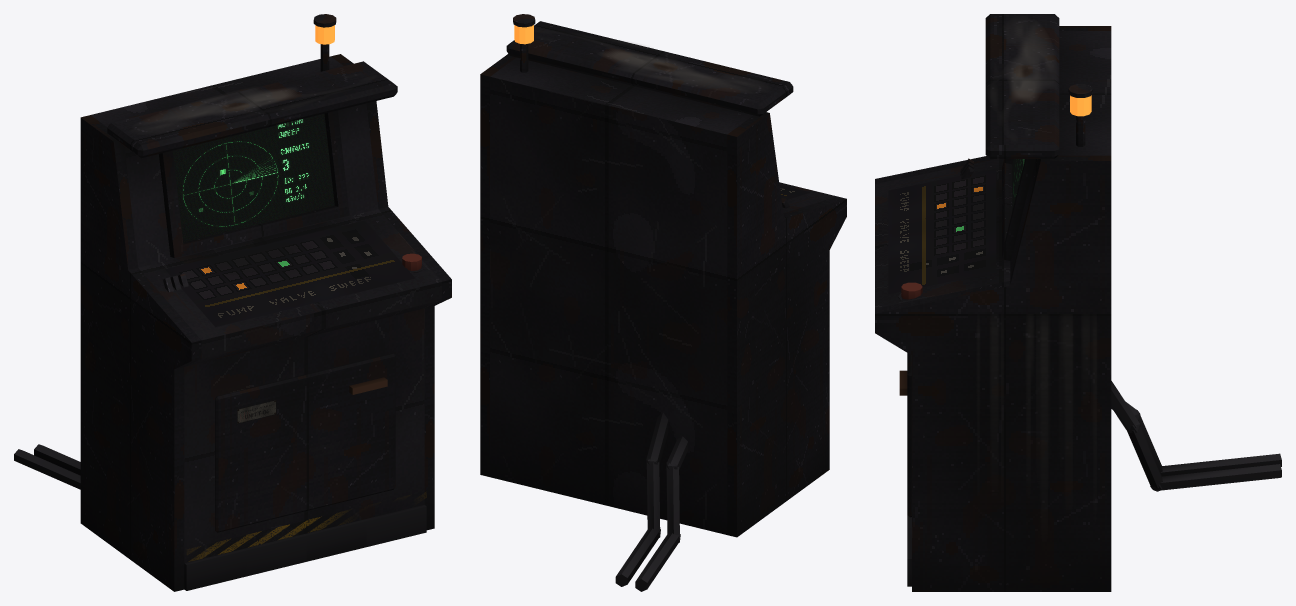
The model's file is terminal_console.glb.
3 renders of one model, left to right at view 1: azimuth 30°, elevation 25°; view 2: azimuth 150°, elevation 25°; view 3: azimuth 270°, elevation 25°, orthographic. The views are drawn at different scales.
Visible parts, largest first — view 1: body, screens, panels, decals; view 2: body, decals; view 3: body, panels, decals.
Part boxes in pixels (bbox=[...]): body: bbox=[14, 14, 451, 591]; screens: bbox=[173, 114, 334, 242]; panels: bbox=[165, 220, 415, 327]; decals: bbox=[145, 88, 426, 561]; body: bbox=[480, 14, 846, 591]; decals: bbox=[602, 49, 755, 90]; body: bbox=[875, 14, 1281, 591]; panels: bbox=[888, 168, 996, 294]; decals: bbox=[991, 24, 1096, 444].
Size of what is drawn, in the model's own units: 1.04 by 1.76 by 1.33.
Materials: 13 (9 with a texture image).
